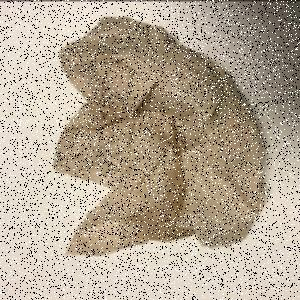Trash: (52, 16, 267, 258)
